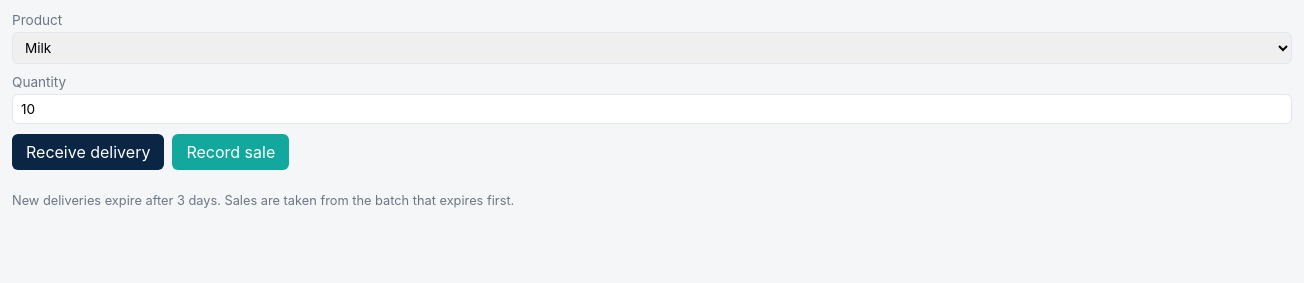
QuickActions › records a sale
The width and height of the screenshot is (1304, 283).
Click the button "Record sale".
click(231, 152)  # box top-left (172, 134), bottom-right (289, 170)
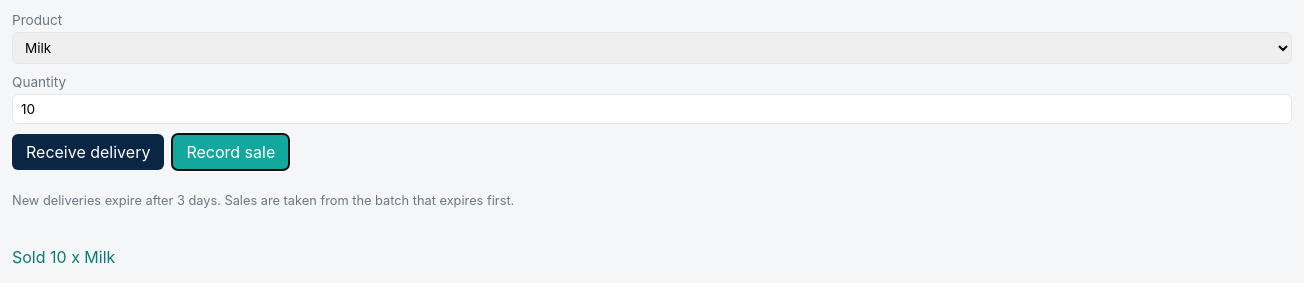
Expected: the text "Sold 10 x Milk" is shown, top-left (12, 247), bottom-right (115, 267)
